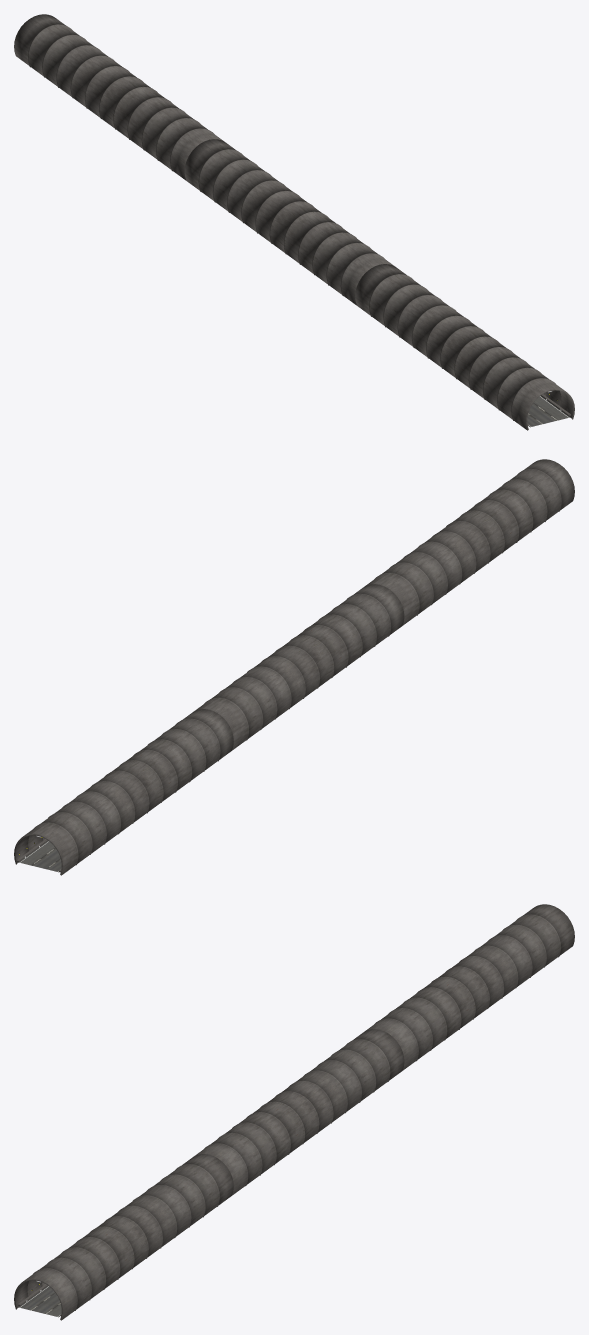
Rendered from road-tunnel-before-seams.glb.
The picture shows the model from 3 angles, top to bottom: view 1: azimuth 30°, elevation 25°; view 2: azimuth 150°, elevation 25°; view 3: azimuth 330°, elevation 25°; orthographic projection.
Visible parts, largest first — view 1: Tunnel walls, Road; view 2: Tunnel walls, Road; view 3: Tunnel walls, Road.
Part boxes in pixels (x1,y1,x2,y2): Tunnel walls: (14,14,574,430); Road: (527,396,570,427); Tunnel walls: (14,459,574,875); Road: (18,841,61,872); Tunnel walls: (14,904,574,1320); Road: (18,1286,61,1317).
Bounding box in the file's own units: 10.91 × 7.55 × 193.
18 materials, 7 textured.
